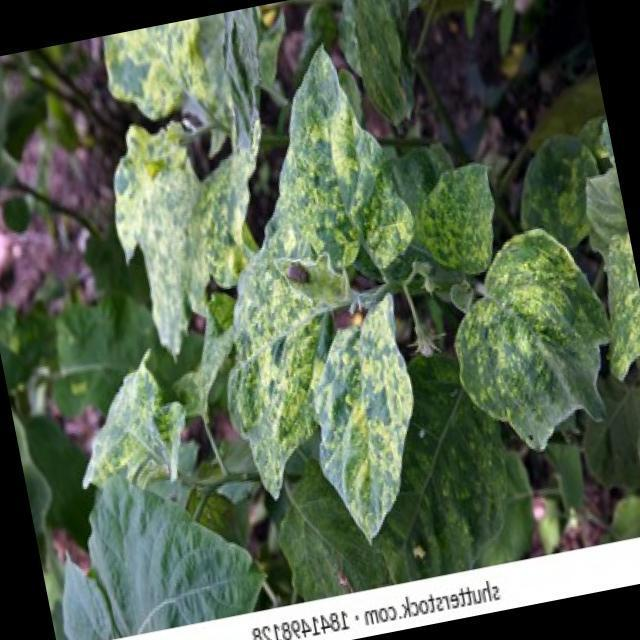Mosaic Virus: (174, 56, 460, 533), (107, 109, 293, 329), (442, 220, 628, 439), (408, 147, 518, 291), (76, 366, 182, 498)
